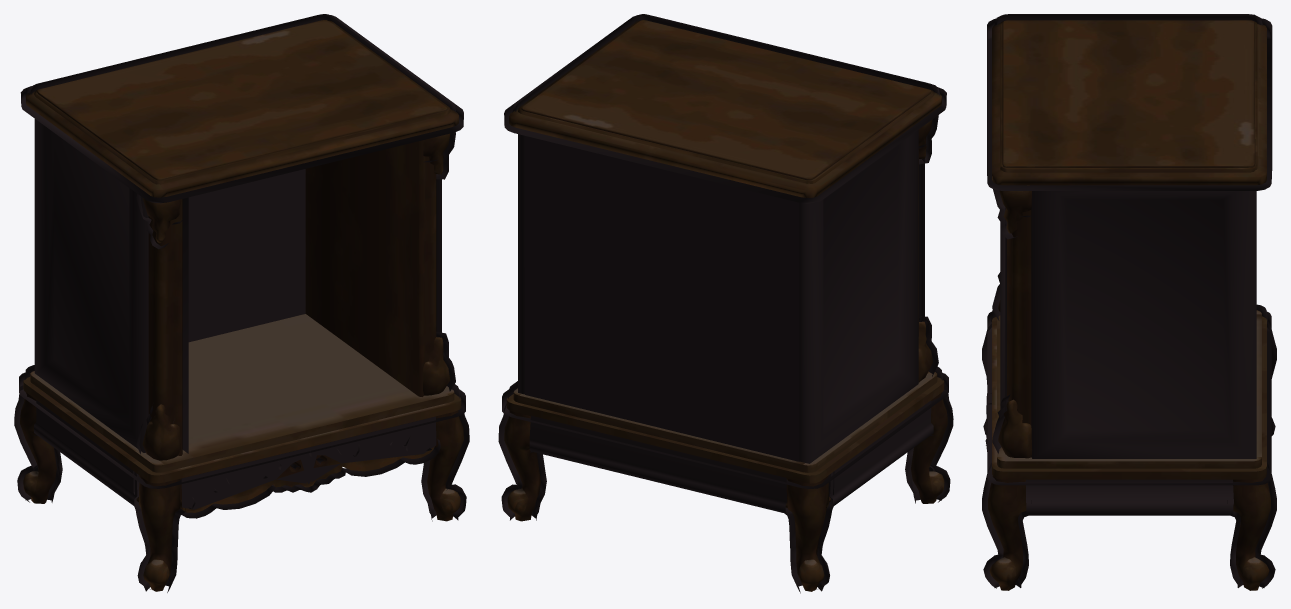
Rendered from SM_Int_Nightstand.fbx.
3 renders of one model, left to right at view 1: azimuth 30°, elevation 25°; view 2: azimuth 150°, elevation 25°; view 3: azimuth 270°, elevation 25°, orthographic. The views are drawn at different scales.
Visible parts, largest first — view 1: SM_Int_Nightstand; view 2: SM_Int_Nightstand; view 3: SM_Int_Nightstand.
Boxes of the visible parts, box(x1,y1,x2,y2) form: SM_Int_Nightstand: box(14, 14, 469, 592); SM_Int_Nightstand: box(498, 14, 953, 593); SM_Int_Nightstand: box(982, 14, 1276, 590).
Size of what is drawn, in the model's own units: 0.5022 by 0.61 by 0.3792.
